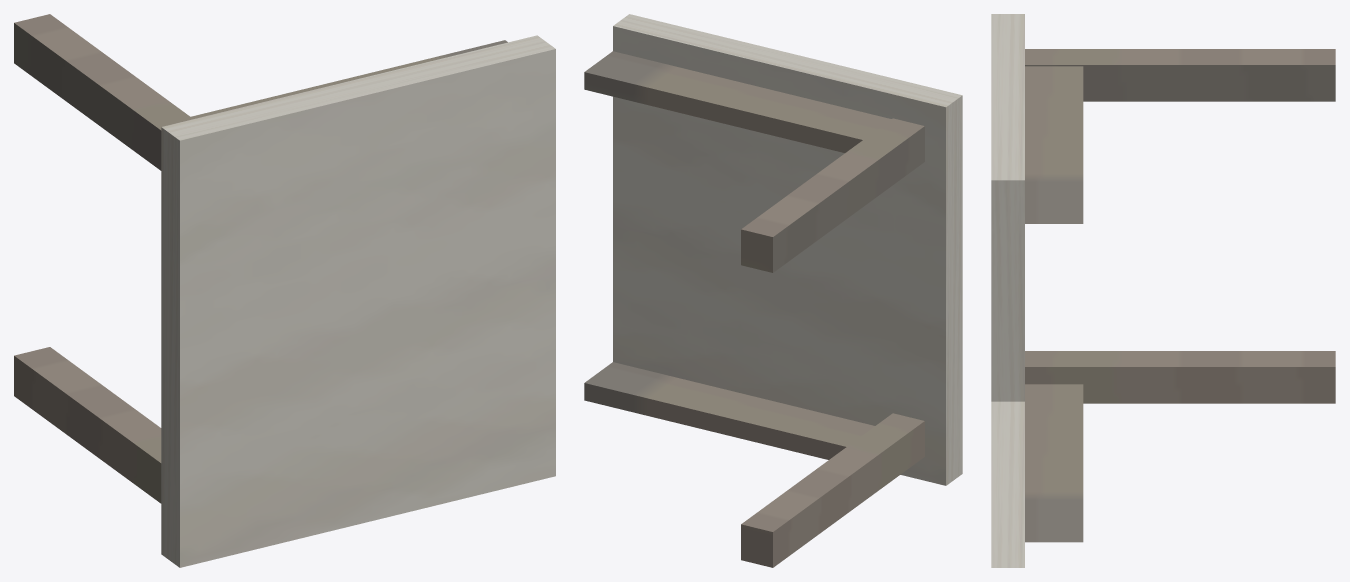
File: pz_table_tables_high_02_long_white_0_0.obj
3 views of the same model, side by side, from view 1: azimuth 30°, elevation 25°; view 2: azimuth 150°, elevation 25°; view 3: azimuth 270°, elevation 25° (orthographic). The views are drawn at different scales.
Size of the model in its own units: 0.875 by 0.95 by 0.7655.
1 material, 1 textured.
